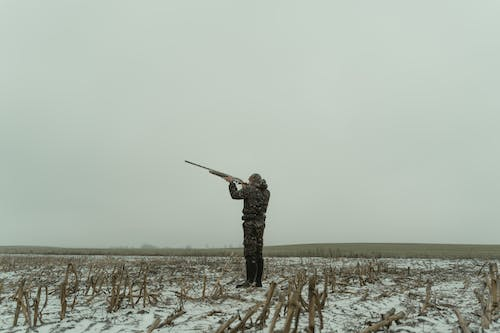gun: (183, 158, 249, 186)
